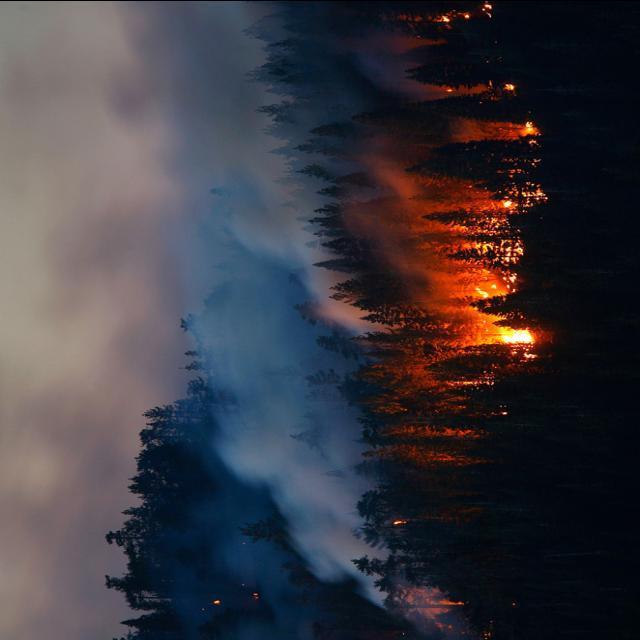Fire: (461, 119, 544, 364)
